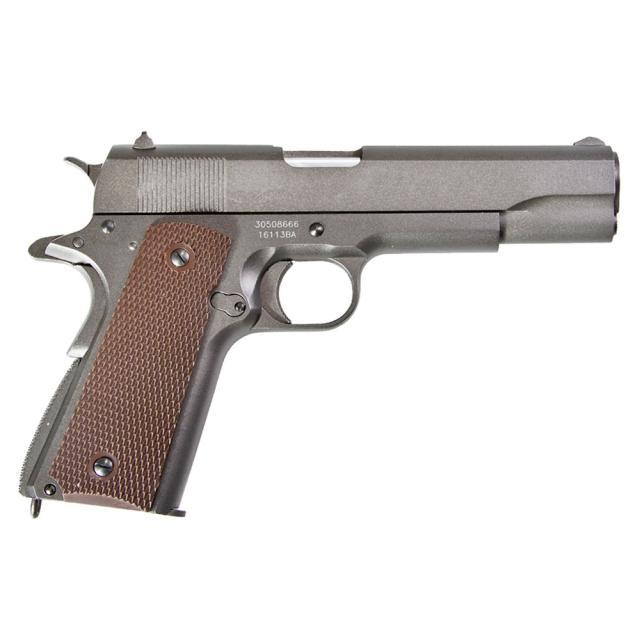Pistol: (14, 114, 628, 546)
